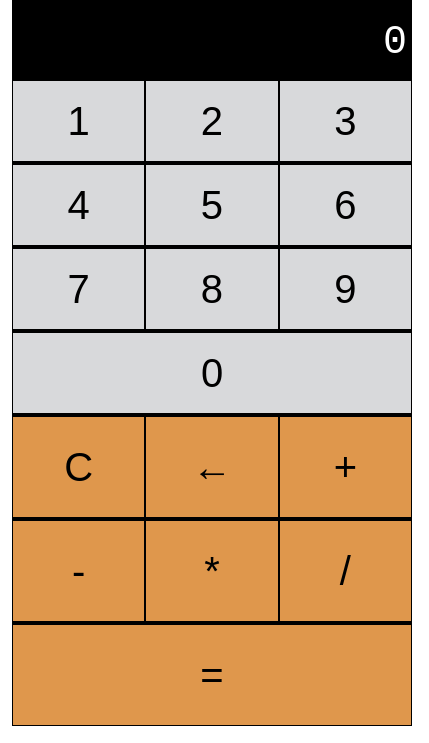
Test case: Calculator › should fill input after clicking a number
Click the button "1". click: (79, 121)
box: [13, 81, 144, 161]
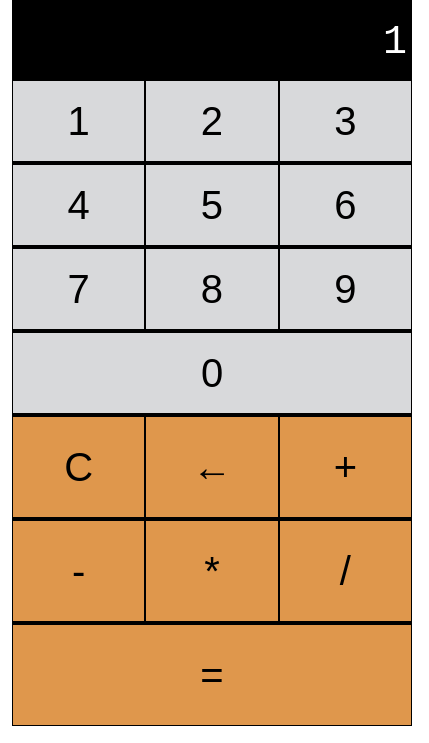
Now the cell reads "1", box [383, 20, 407, 65]
